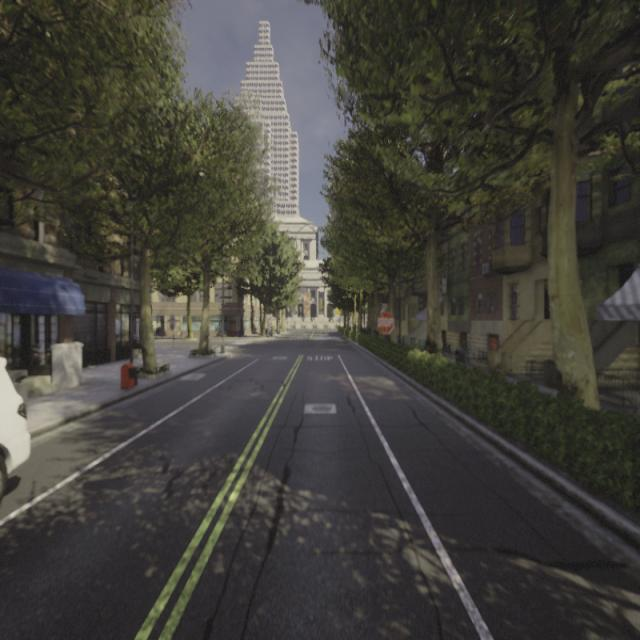stop sign: (374, 305, 396, 337)
